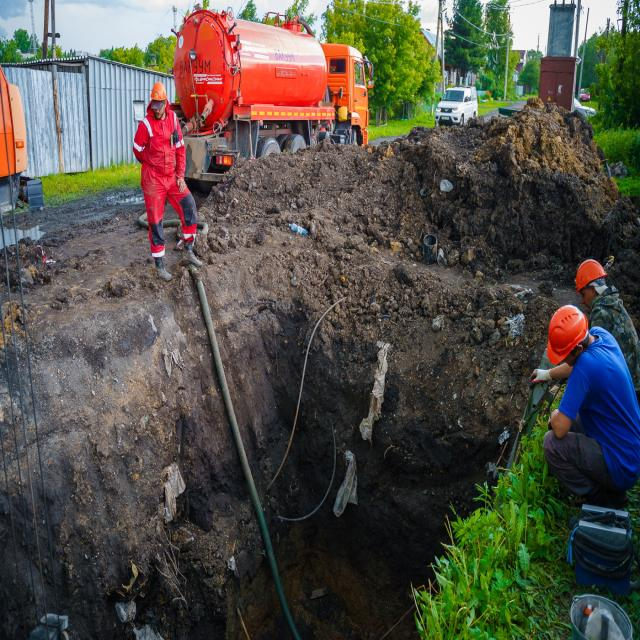Helmet: (549, 307, 590, 369), (574, 259, 610, 295), (151, 83, 168, 107)
Jacket: (141, 114, 183, 209)
NoJacket: (564, 354, 633, 471), (601, 301, 637, 371)
